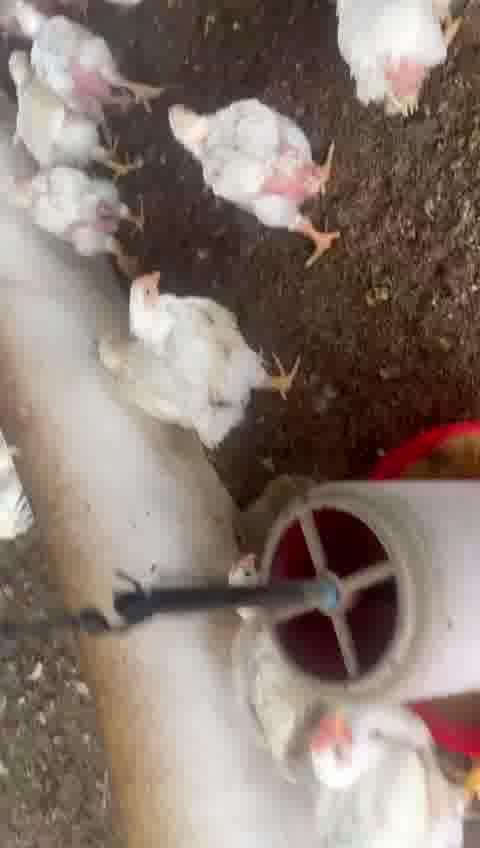AbNormal: (86, 324, 211, 443)
Normal: (161, 96, 363, 260), (127, 272, 312, 434), (305, 705, 480, 848), (0, 140, 143, 255), (22, 6, 161, 108), (3, 47, 123, 158)
